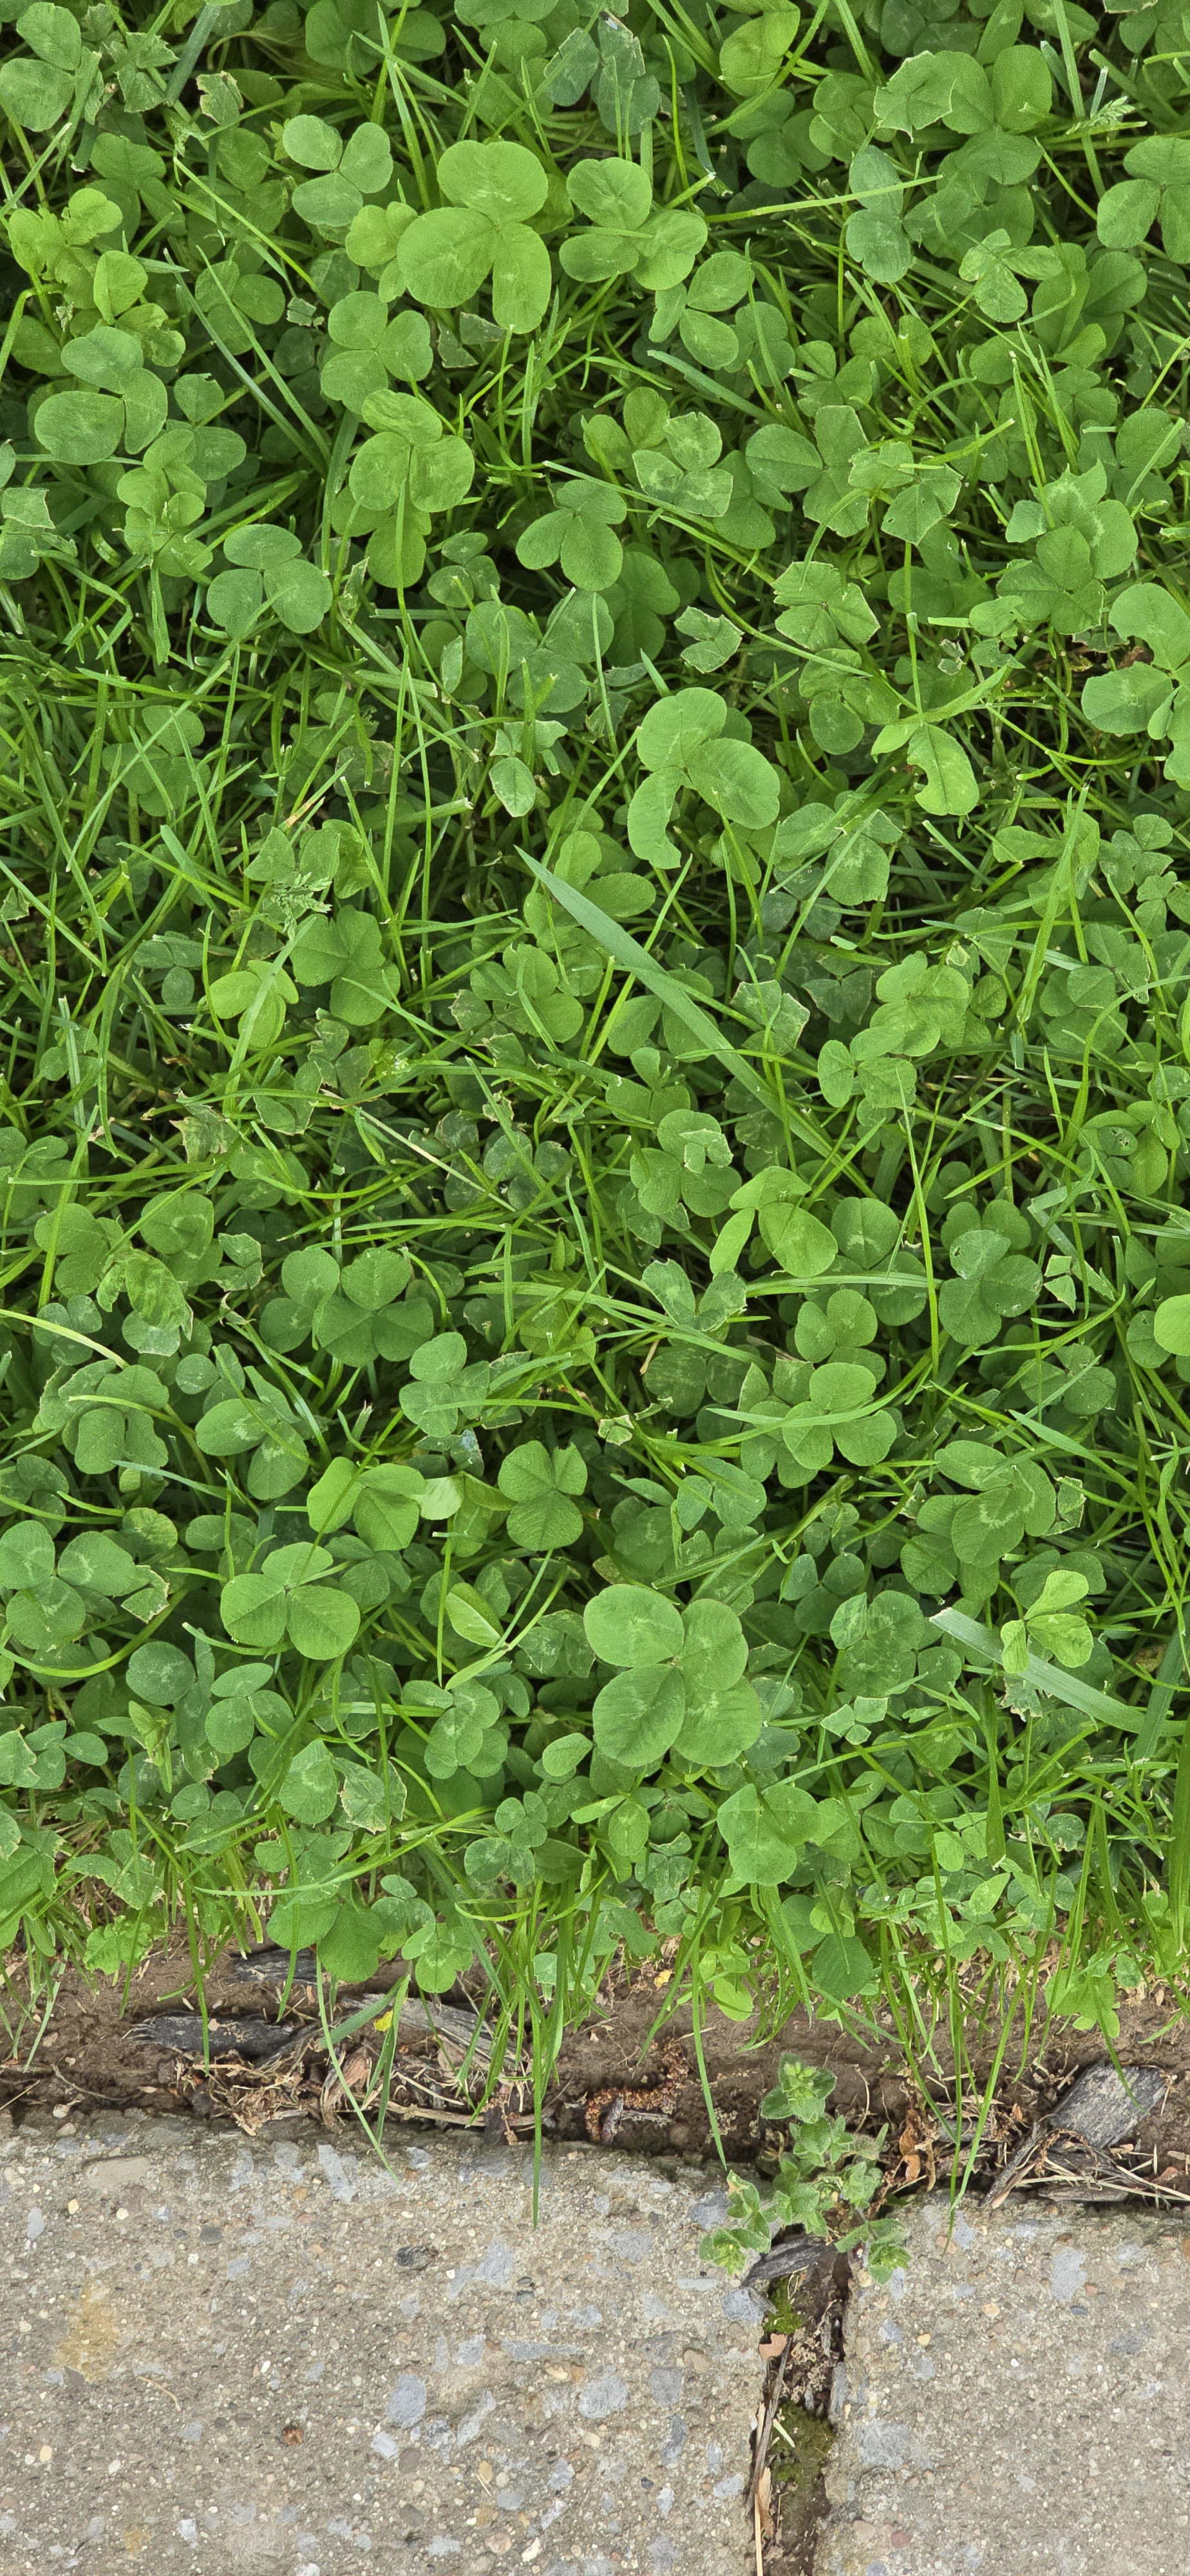four-leaf-clover: (616, 674, 789, 874), (394, 136, 560, 337), (490, 442, 634, 591), (217, 1533, 363, 1667), (743, 401, 881, 542), (35, 327, 169, 467), (705, 1153, 842, 1290), (205, 516, 342, 639), (988, 511, 1116, 641), (937, 1434, 1060, 1569), (312, 1239, 434, 1370), (777, 1357, 902, 1472), (935, 1224, 1047, 1350), (283, 117, 396, 235), (815, 1015, 916, 1120), (192, 260, 276, 361)
three-leaf-clover: (577, 1577, 766, 1778)
